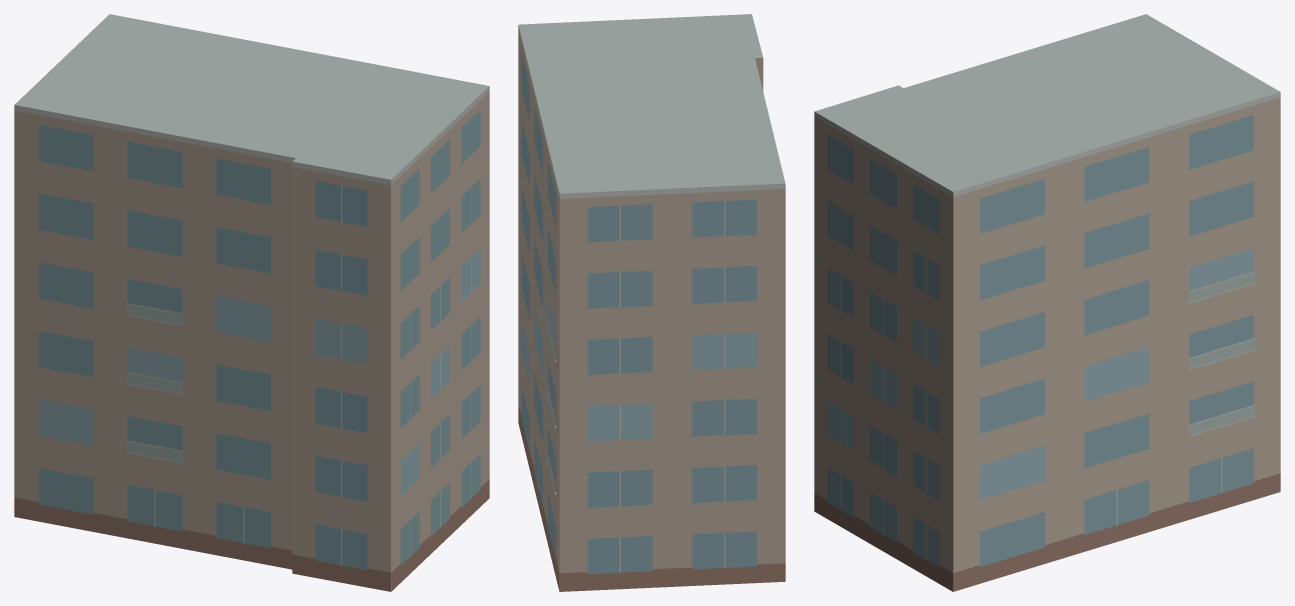
The model's file is survey-upis-32747588.glb.
3 views of the same model, side by side, from view 1: azimuth 30°, elevation 25°; view 2: azimuth 150°, elevation 25°; view 3: azimuth 270°, elevation 25° (orthographic). The views are drawn at different scales.
Visible parts, largest first — view 1: survey-upis-32747588.tmp; view 2: survey-upis-32747588.tmp; view 3: survey-upis-32747588.tmp.
Part boxes in pixels (<box>): survey-upis-32747588.tmp: <box>14,14,489,591</box>; survey-upis-32747588.tmp: <box>518,14,785,591</box>; survey-upis-32747588.tmp: <box>814,14,1280,591</box>.
Bounding box in the file's own units: 17.48 × 18.3 × 19.35.
